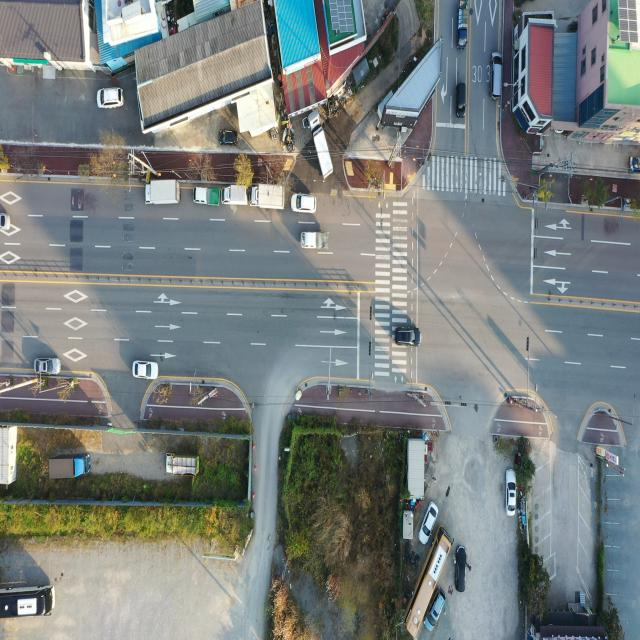car: (424, 583, 448, 632), (418, 500, 438, 547), (454, 544, 468, 595), (489, 51, 502, 100), (97, 88, 125, 110), (132, 360, 158, 380), (454, 83, 467, 121), (293, 194, 318, 213), (396, 328, 422, 346), (35, 357, 60, 374), (506, 470, 515, 516), (0, 212, 11, 232)
large_bus: (404, 526, 454, 638), (0, 582, 57, 623)
medium_truck: (308, 106, 333, 179), (46, 446, 91, 482), (146, 176, 183, 205), (251, 182, 286, 211)
small_truck: (165, 454, 202, 481), (222, 187, 250, 210), (455, 0, 467, 51), (193, 186, 220, 206), (299, 230, 325, 248)
